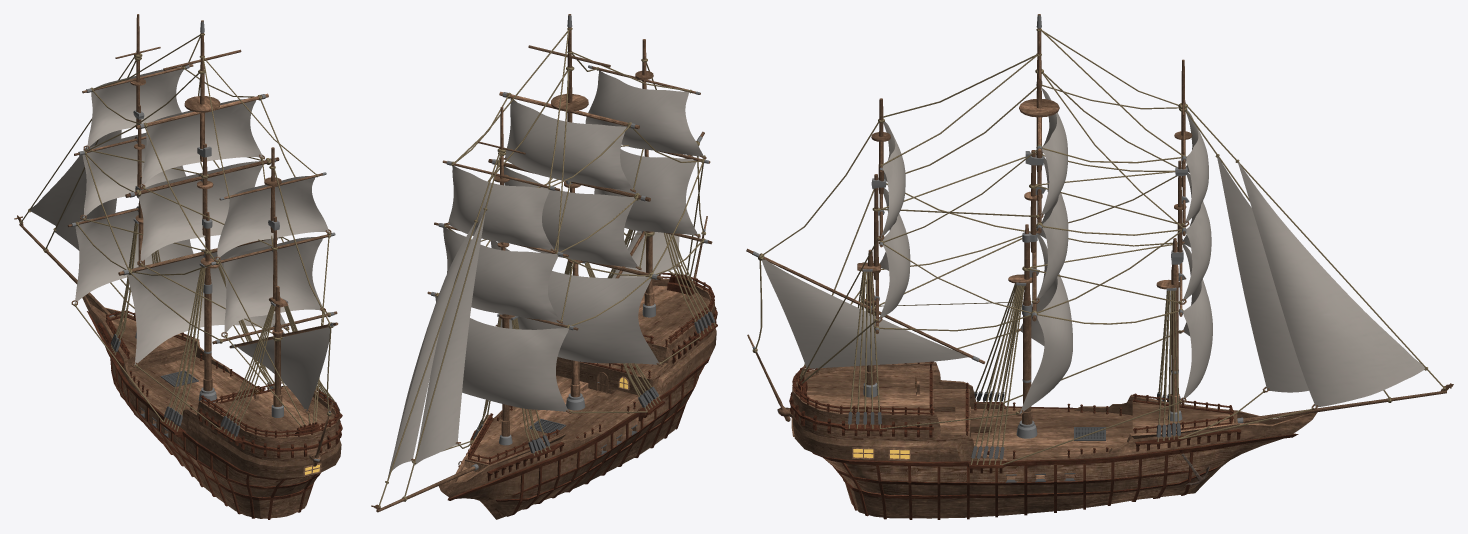
File: PirateShip2_Draco.glb
3 views of the same model, side by side, from view 1: azimuth 30°, elevation 25°; view 2: azimuth 150°, elevation 25°; view 3: azimuth 270°, elevation 25° (orthographic). The views are drawn at different scales.
Visible parts, largest first — view 1: BackJib_Sails_0, MainShip_MainShip_0, ForeMast_Poles_0, Cylinder.068_Ropes_0, BeamDetails_Details_0, ForeshroudDetail_Metal_0; view 2: BackJib_Sails_0, MainShip_MainShip_0, Cylinder.068_Ropes_0, ForeMast_Poles_0, BeamDetails_Details_0, ForeshroudDetail_Metal_0; view 3: BackJib_Sails_0, MainShip_MainShip_0, Cylinder.068_Ropes_0, ForeMast_Poles_0, BeamDetails_Details_0, ForeshroudDetail_Metal_0.
Boxes of the visible parts, box(x1,y1,x2,y2) form: BackJib_Sails_0: box(30, 68, 329, 411); MainShip_MainShip_0: box(71, 145, 342, 518); ForeMast_Poles_0: box(14, 14, 338, 466); Cylinder.068_Ropes_0: box(19, 33, 340, 439); BeamDetails_Details_0: box(97, 310, 341, 519); ForeshroudDetail_Metal_0: box(110, 334, 339, 437); BackJib_Sails_0: box(387, 70, 703, 478); MainShip_MainShip_0: box(411, 155, 717, 519); Cylinder.068_Ropes_0: box(378, 28, 715, 508); ForeMast_Poles_0: box(371, 14, 712, 512); BeamDetails_Details_0: box(458, 272, 716, 516); ForeshroudDetail_Metal_0: box(473, 311, 715, 455); BackJib_Sails_0: box(762, 88, 1425, 414); MainShip_MainShip_0: box(789, 151, 1318, 518); Cylinder.068_Ropes_0: box(752, 28, 1445, 464); ForeMast_Poles_0: box(746, 14, 1453, 438); BeamDetails_Details_0: box(790, 361, 1241, 519); ForeshroudDetail_Metal_0: box(848, 391, 1180, 482).
Size of the model in its own units: 159 by 390 by 511.
11 materials, 10 textured.
